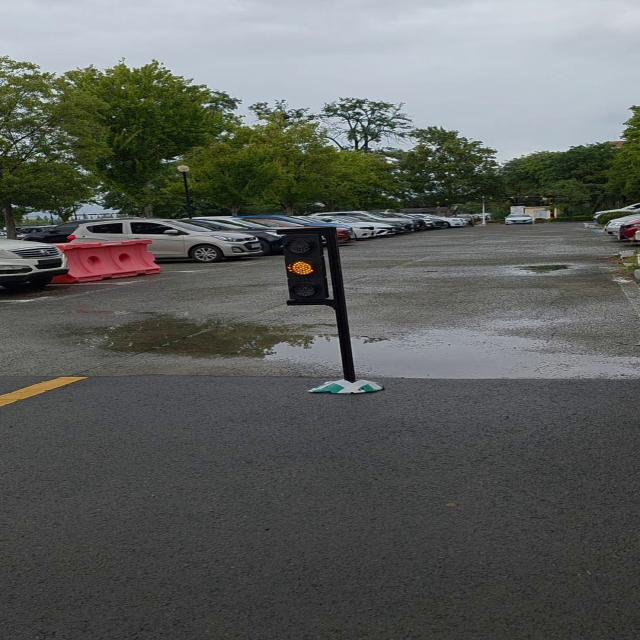yellow: (281, 231, 338, 307)
